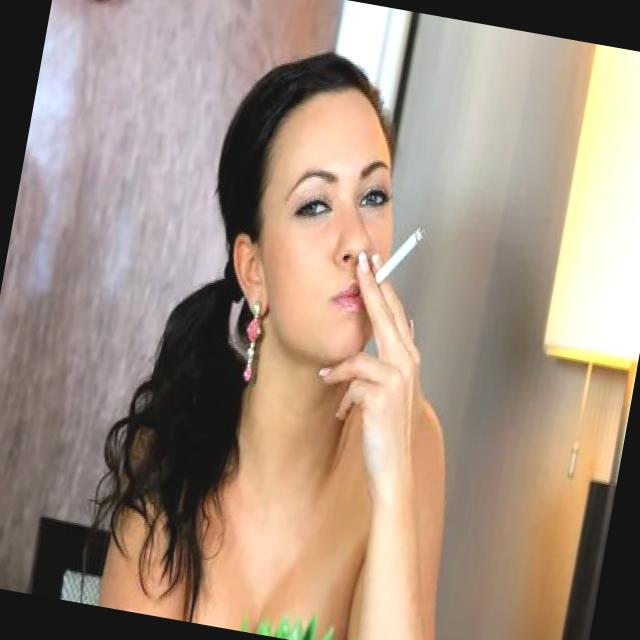smoke: (368, 215, 430, 296)
